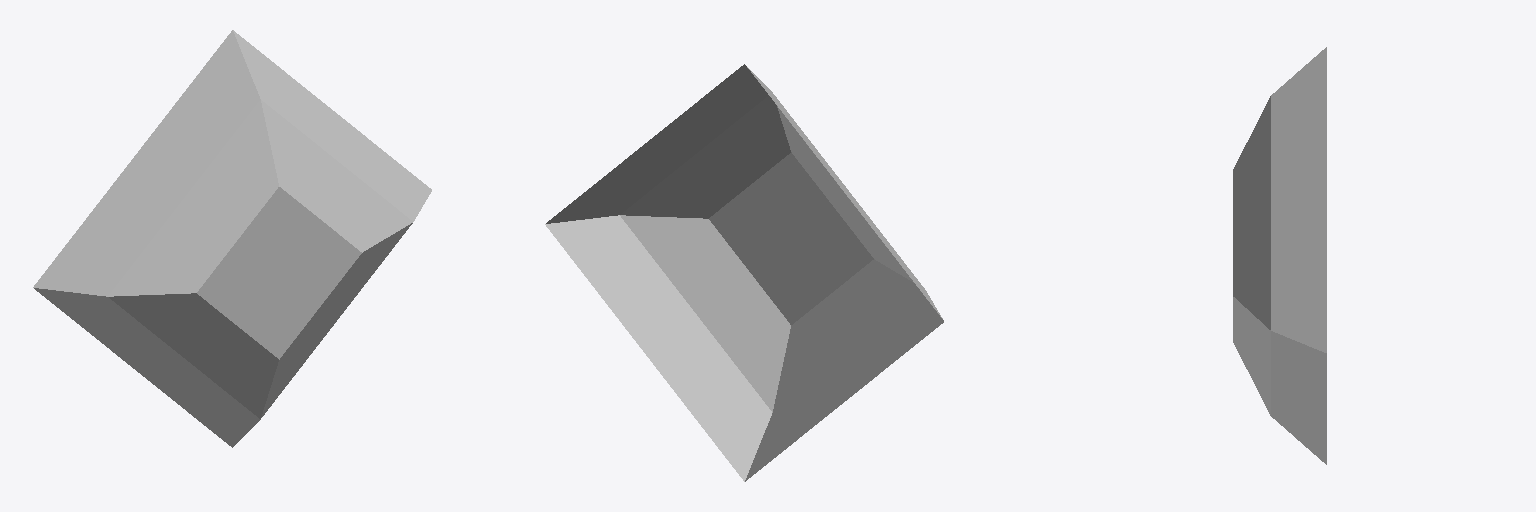
The model's file is muzzleflash_cone.obj.
3 views of the same model, side by side, from view 1: azimuth 30°, elevation 25°; view 2: azimuth 150°, elevation 25°; view 3: azimuth 270°, elevation 25° (orthographic).
Parts seen in each view (by area): view 1: sphere10; view 2: sphere10; view 3: sphere10.
Boxes of the visible parts, <box> form: sphere10: <box>33,30,431,447</box>; sphere10: <box>545,64,943,481</box>; sphere10: <box>1233,47,1326,464</box>.
Size of the model in its own units: 1.85 by 1.85 by 0.3734.